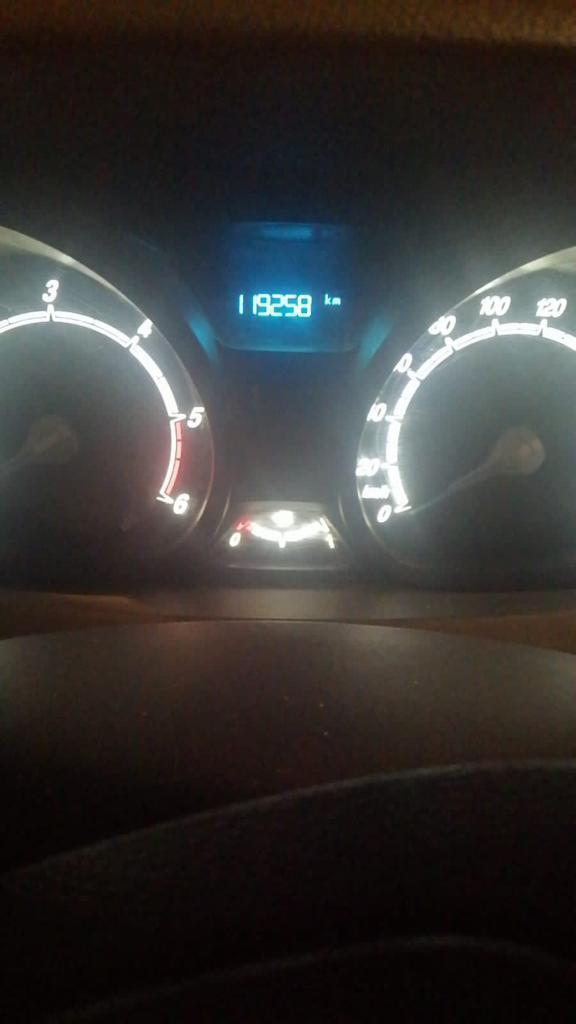1: (233, 292, 246, 316), (248, 293, 257, 317)
2: (269, 293, 283, 317)
5: (283, 293, 297, 318)
8: (297, 293, 312, 318)
9: (257, 293, 270, 317)
X: (331, 295, 341, 306), (323, 292, 331, 305)
odometer: (203, 265, 367, 355)
